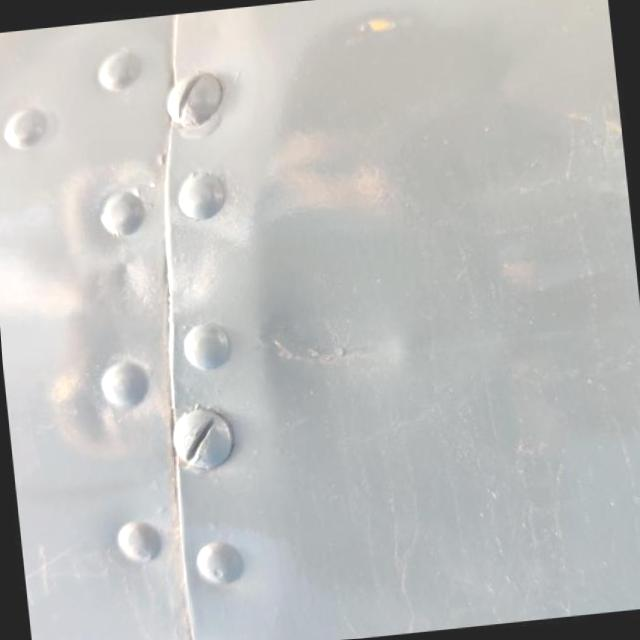dent: (27, 154, 179, 448), (259, 268, 417, 396)
